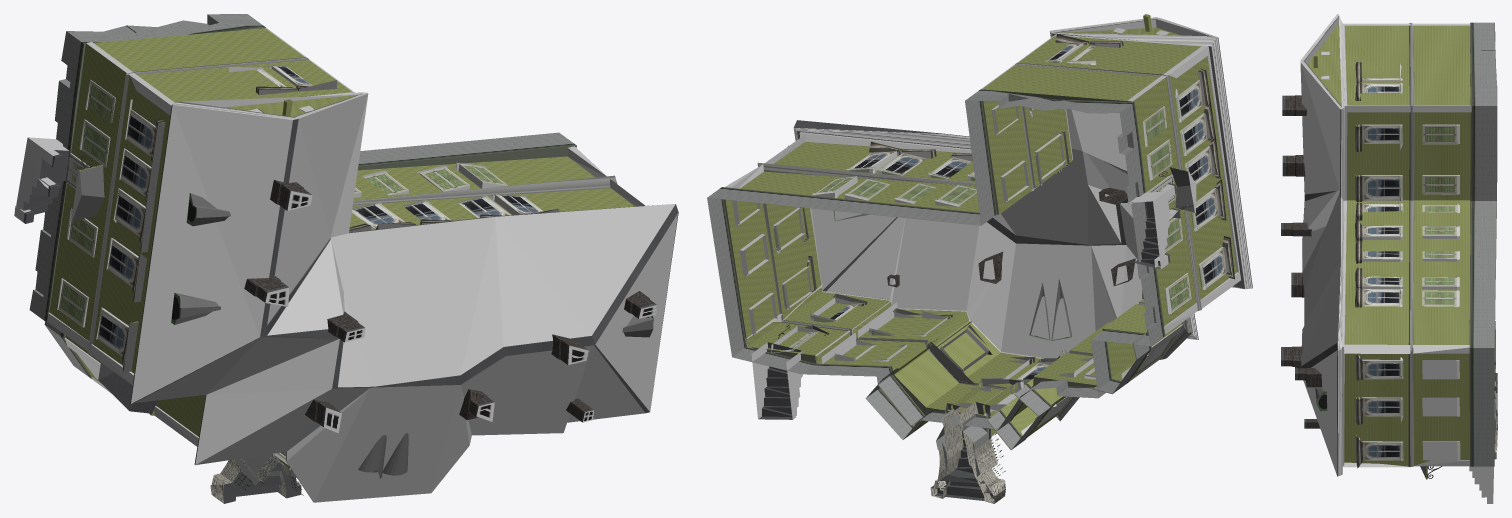
The model's file is Vana-Viru_15-origo.obj.
3 views of the same model, side by side, from view 1: azimuth 30°, elevation 25°; view 2: azimuth 150°, elevation 25°; view 3: azimuth 270°, elevation 25° (orthographic). The views are drawn at different scales.
Visible parts, largest first — view 1: Vana_Viru_tn_15; view 2: Vana_Viru_tn_15; view 3: Vana_Viru_tn_15.
Boxes of the visible parts, <box> form: Vana_Viru_tn_15: <box>14,14,678,503</box>; Vana_Viru_tn_15: <box>707,14,1252,503</box>; Vana_Viru_tn_15: <box>1281,14,1497,503</box>.
Bounding box in the file's own units: 29.94 × 27 × 14.47.
